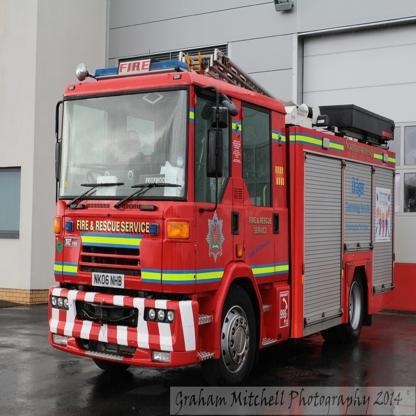fire-truck: (39, 41, 392, 386)
